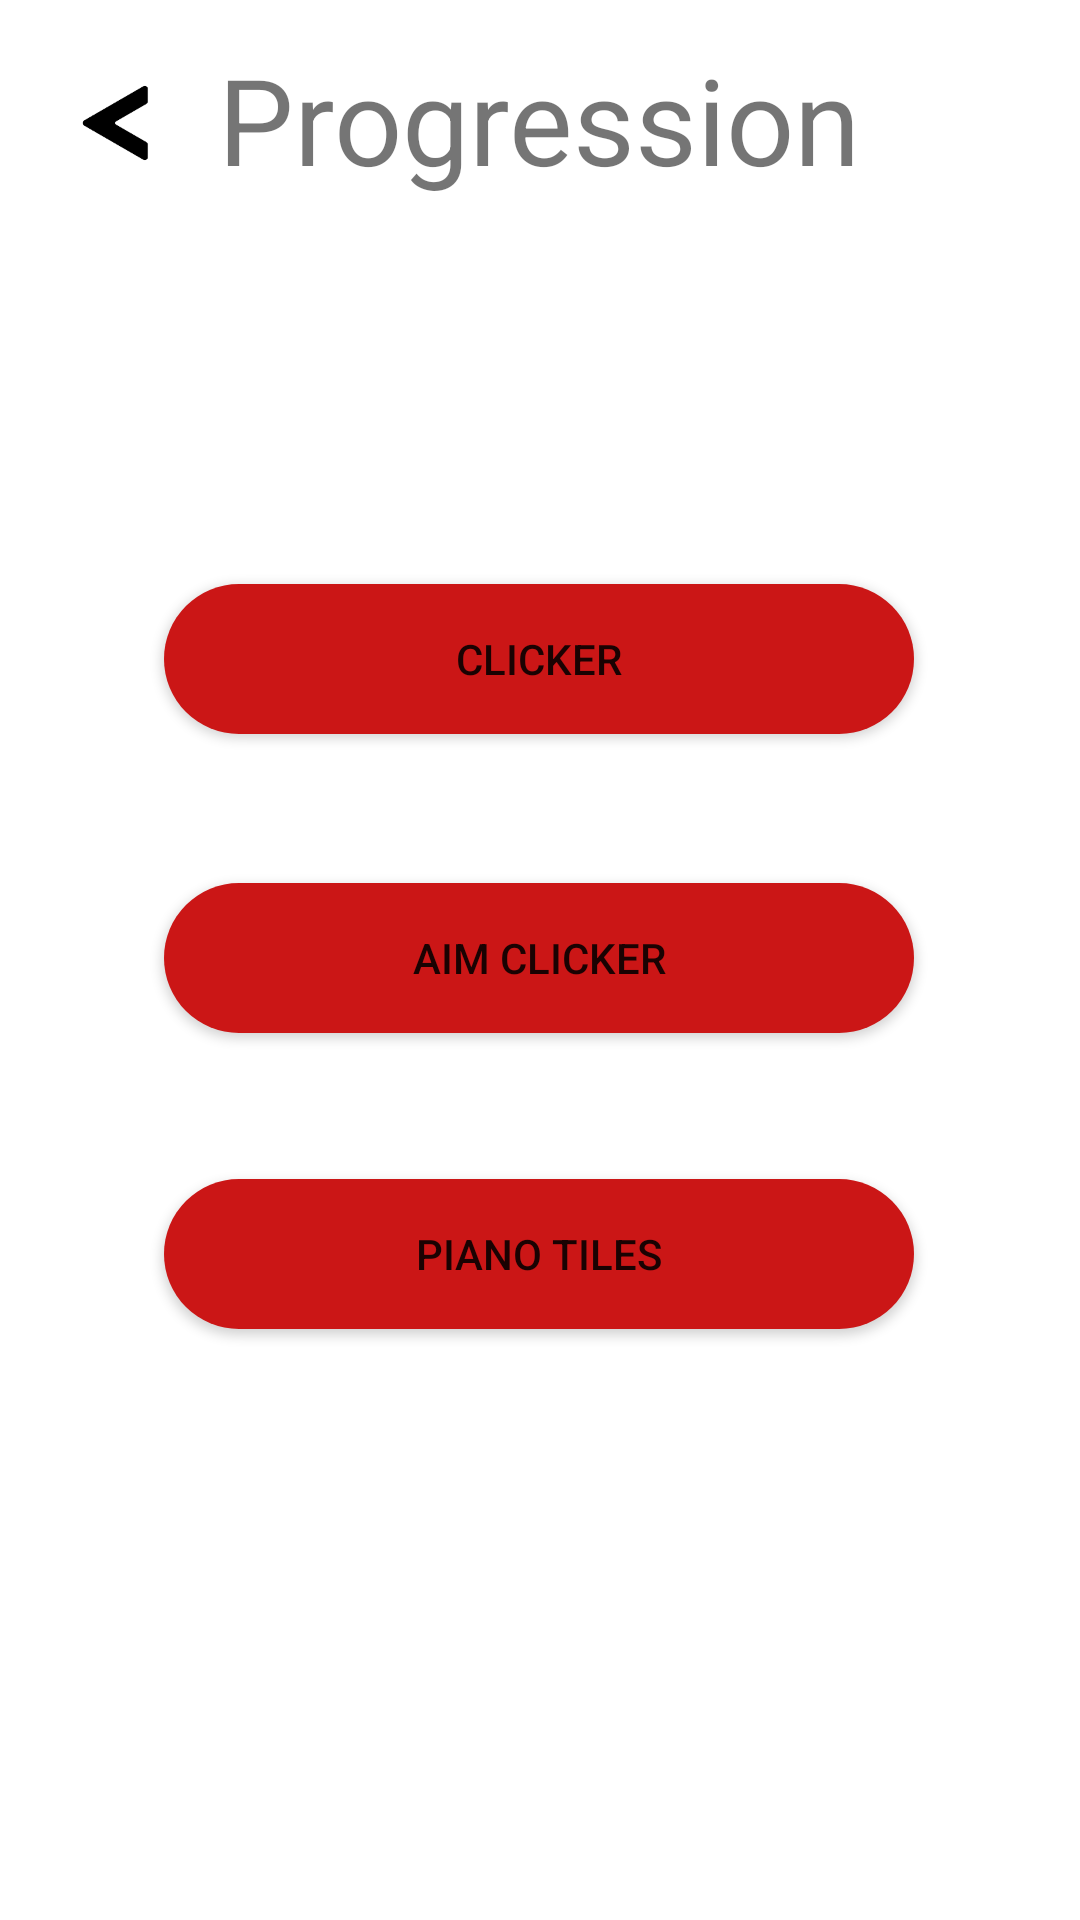

Screen size 1080x1920. Icon name, then its box in pixels as (x1, y1, x2, y2):
fleche retour: (82, 86, 148, 160)
